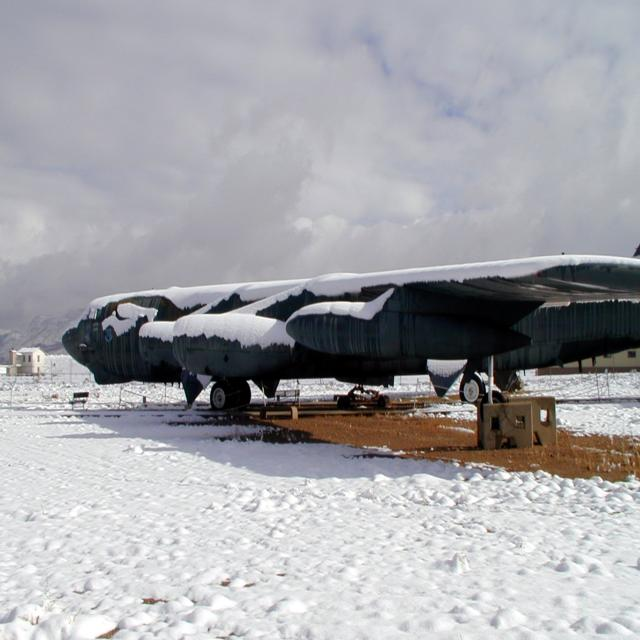MIL_Plane: (43, 244, 621, 430)
